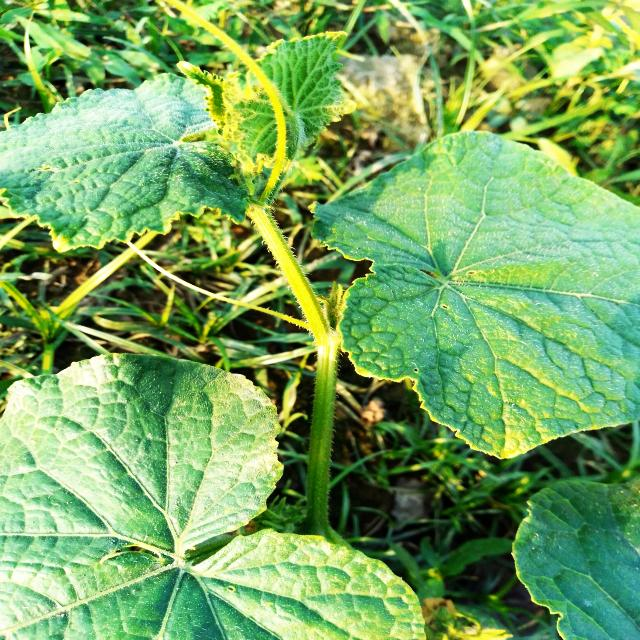Fresh-Leaf: (311, 135, 640, 458)
